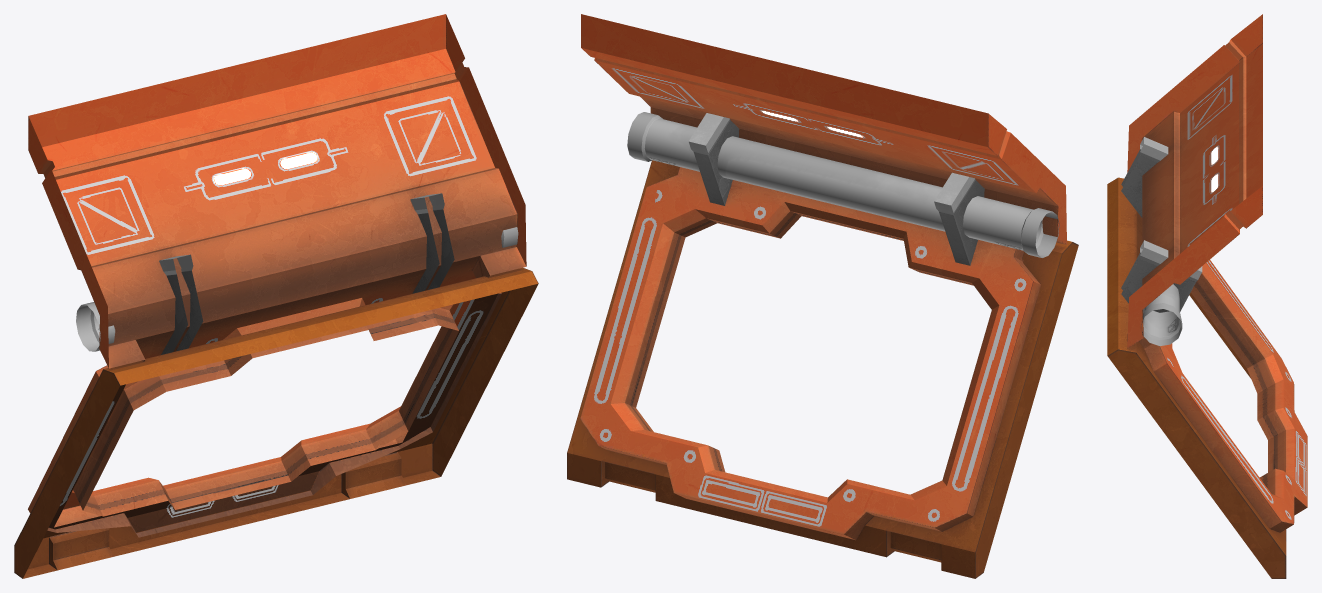
Rendered from Pfb_Soda_wall12.fbx.
3 renders of one model, left to right at view 1: azimuth 30°, elevation 25°; view 2: azimuth 150°, elevation 25°; view 3: azimuth 270°, elevation 25°, orthographic. The views are drawn at different scales.
Visible parts, largest first — view 1: wall12; view 2: wall12; view 3: wall12.
Boxes of the visible parts, x1,y1,x2,y2 form: wall12: [14, 14, 538, 578]; wall12: [567, 14, 1078, 578]; wall12: [1107, 14, 1307, 578].
Size of the model in its own units: 0.6333 by 0.6752 by 0.3114.
Materials: 1 (1 with a texture image).
